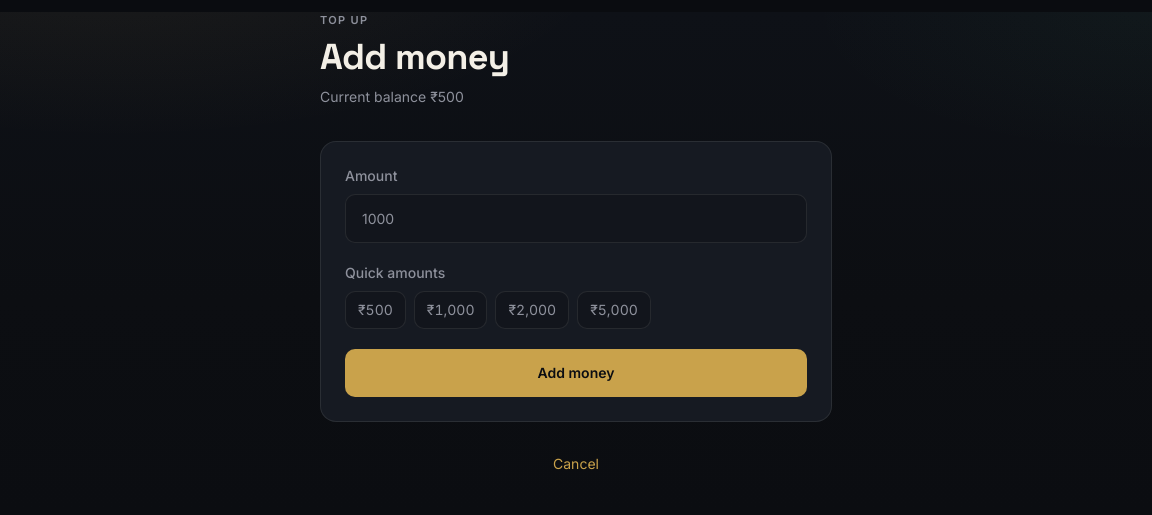
Test case: Add money flow › blocks submit for invalid amount
Type "0" into the number field labelled "Amount" at x=576, y=218, box [345,194,807,243]
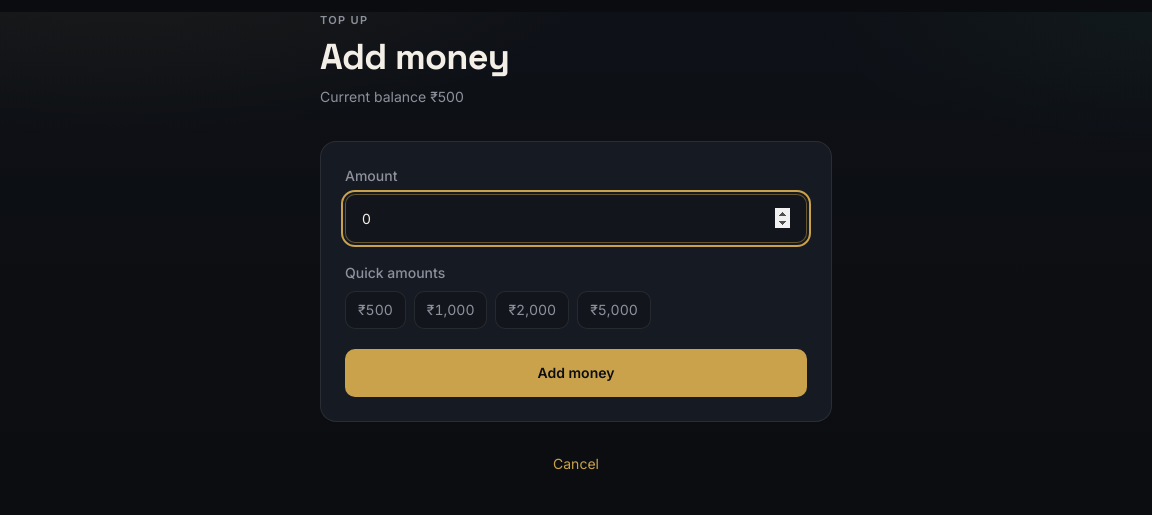
Click the button "Add money" at x=576, y=373, box [345,349,807,397]
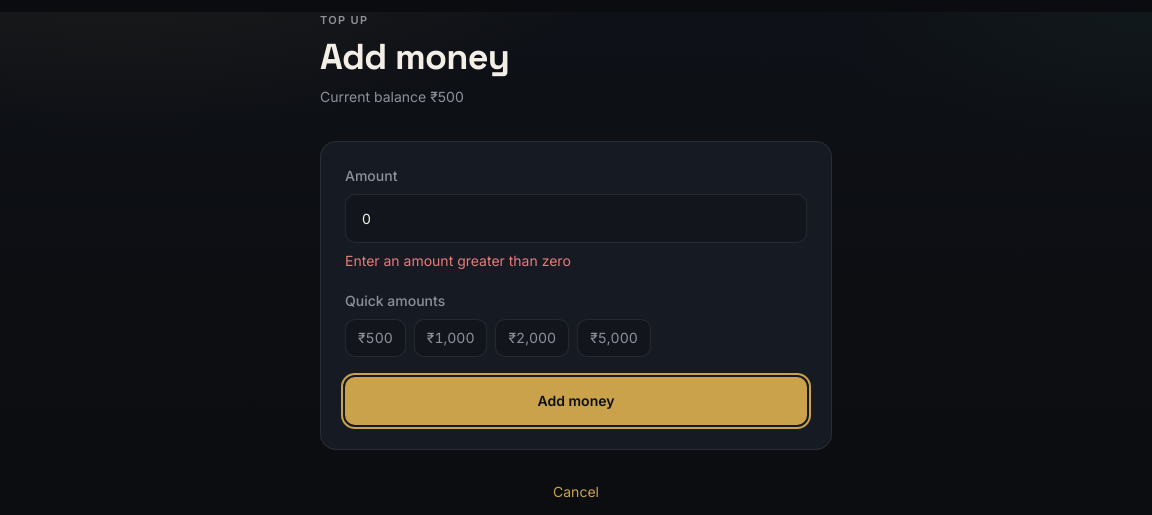
expect the text "Enter an amount greater than zero" is shown: met, box [345,252,571,269]
